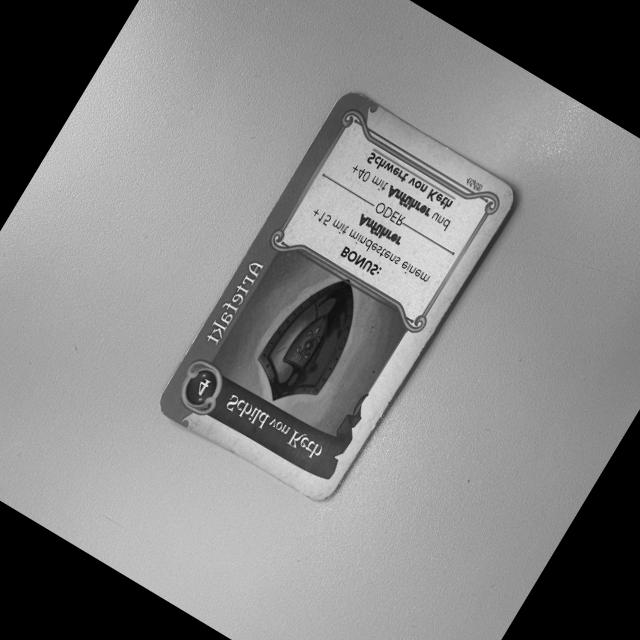Shield Of Keth: (152, 84, 526, 511)
